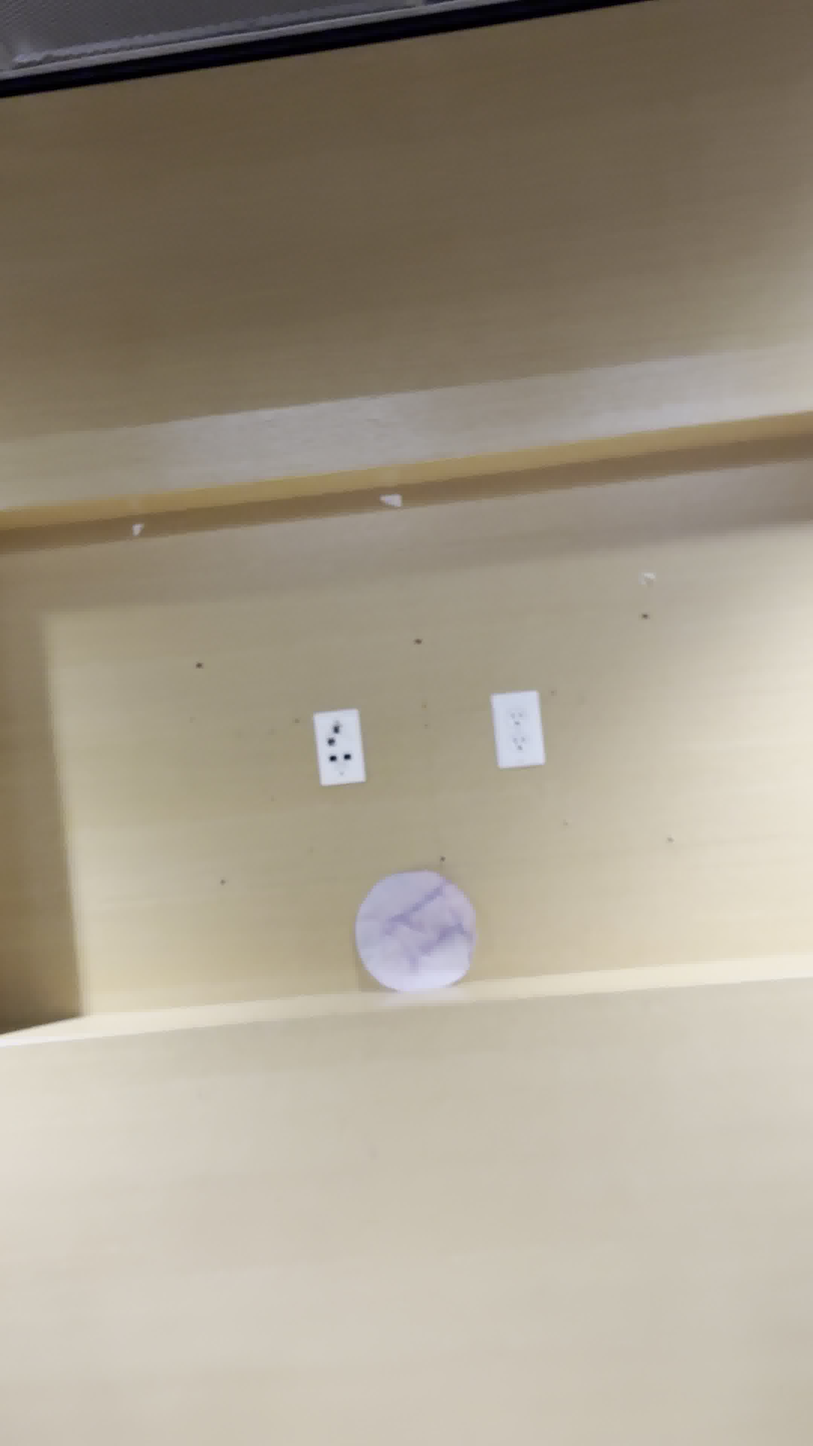Target: (354, 868, 478, 994)
